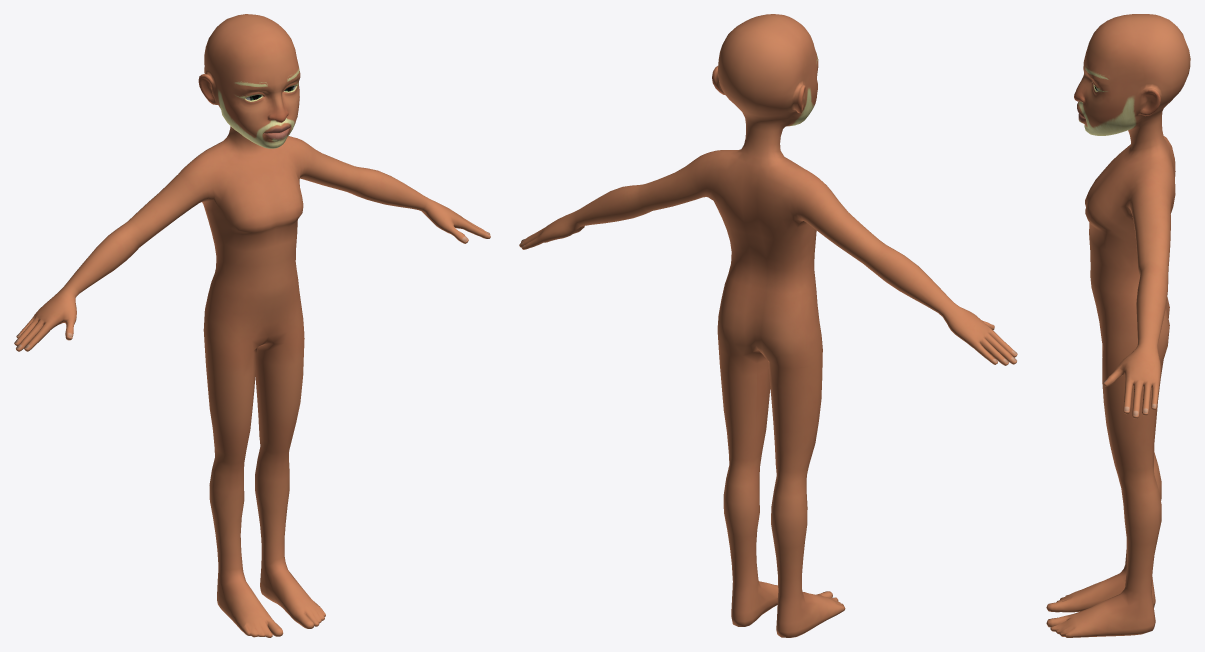
Rendered from frame_0059.glb.
3 views of the same model, side by side, from view 1: azimuth 30°, elevation 25°; view 2: azimuth 150°, elevation 25°; view 3: azimuth 270°, elevation 25° (orthographic). The views are drawn at different scales.
Visible parts, largest first — view 1: frame_0059_head_geo; view 2: frame_0059_head_geo; view 3: frame_0059_head_geo.
Part boxes in pixels (x1,y1,x2,y2): frame_0059_head_geo: (14,14,490,637); frame_0059_head_geo: (519,14,1017,637); frame_0059_head_geo: (1046,14,1190,637).
Size of the model in its own units: 1.28 by 1.5 by 0.3253.
3 materials, 3 textured.
